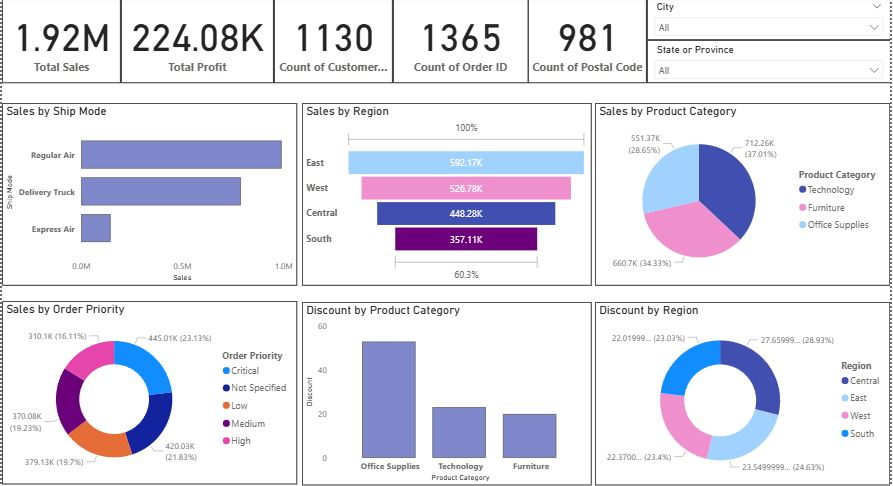

This screenshot's page, from the dashboard's own definition file:
{"tool":"powerbi","page":{"name":"Page 1","canvas":[1280,720],"ordinal":0},"visuals":[{"type":"card","fields":{"Values":["Sum(Orders.Sales)"]},"box":[0,0,171.3,124.3],"z":0},{"type":"card","fields":{"Values":["Sum(Orders.Profit)"]},"box":[171.3,0,220.1,124.3],"z":1000},{"type":"card","fields":{"Values":["Count(Orders.Customer ID)"]},"box":[391.4,0,171.3,124.3],"z":2000},{"type":"card","fields":{"Values":["Count(Orders.Order ID)"]},"box":[562.7,0,194.9,124.3],"z":3000},{"type":"card","fields":{"Values":["Count(Orders.Postal Code)"]},"box":[757.6,0,171.3,124.3],"z":4000},{"type":"barChart","fields":{"Category":["Orders.Ship Mode"],"Y":["Sum(Orders.Sales)"]},"box":[0,152.5,425.4,262.7],"z":5000},{"type":"pieChart","fields":{"Y":["Sum(Orders.Sales)"],"Category":["Orders.Product Category"]},"box":[854.2,152.5,425.4,262.7],"z":6000},{"type":"donutChart","fields":{"Category":["Orders.Order Priority"],"Y":["Sum(Orders.Sales)"]},"box":[0,438.4,425,263.7],"z":7000},{"type":"funnel","fields":{"Y":["Sum(Orders.Sales)"],"Category":["Orders.Region"]},"box":[432.2,152.5,416.9,262.7],"z":8000},{"type":"columnChart","fields":{"Category":["Orders.Product Category"],"Y":["Sum(Orders.Discount)"]},"box":[432.2,439,416.9,264.4],"z":9000},{"type":"donutChart","fields":{"Y":["Sum(Orders.Discount)"],"Category":["Orders.Region"]},"box":[854.2,439,425.4,264.4],"z":10000},{"type":"slicer","fields":{"Values":["Orders.City"]},"box":[928.9,0,351.1,62.2],"z":11000},{"type":"slicer","fields":{"Values":["Orders.State or Province"]},"box":[928.9,62.2,351.1,62.2],"z":12000}]}

Visuals, with their boxes in screenshot pixels (x1, y1, x2, y2):
card - Sum(Orders.Sales): box=[2, 0, 121, 81]
card - Sum(Orders.Profit): box=[121, 0, 272, 81]
card - Count(Orders.Customer ID): box=[272, 0, 391, 81]
card - Count(Orders.Order ID): box=[391, 0, 525, 81]
card - Count(Orders.Postal Code): box=[525, 0, 643, 81]
barChart - Orders.Ship Mode x Sum(Orders.Sales): box=[2, 101, 296, 282]
pieChart - Sum(Orders.Sales) x Orders.Product Category: box=[592, 101, 885, 282]
donutChart - Orders.Order Priority x Sum(Orders.Sales): box=[2, 298, 296, 480]
funnel - Sum(Orders.Sales) x Orders.Region: box=[301, 101, 588, 282]
columnChart - Orders.Product Category x Sum(Orders.Discount): box=[301, 298, 588, 481]
donutChart - Sum(Orders.Discount) x Orders.Region: box=[592, 298, 885, 481]
slicer - Orders.City: box=[643, 0, 886, 38]
slicer - Orders.State or Province: box=[643, 38, 886, 81]
